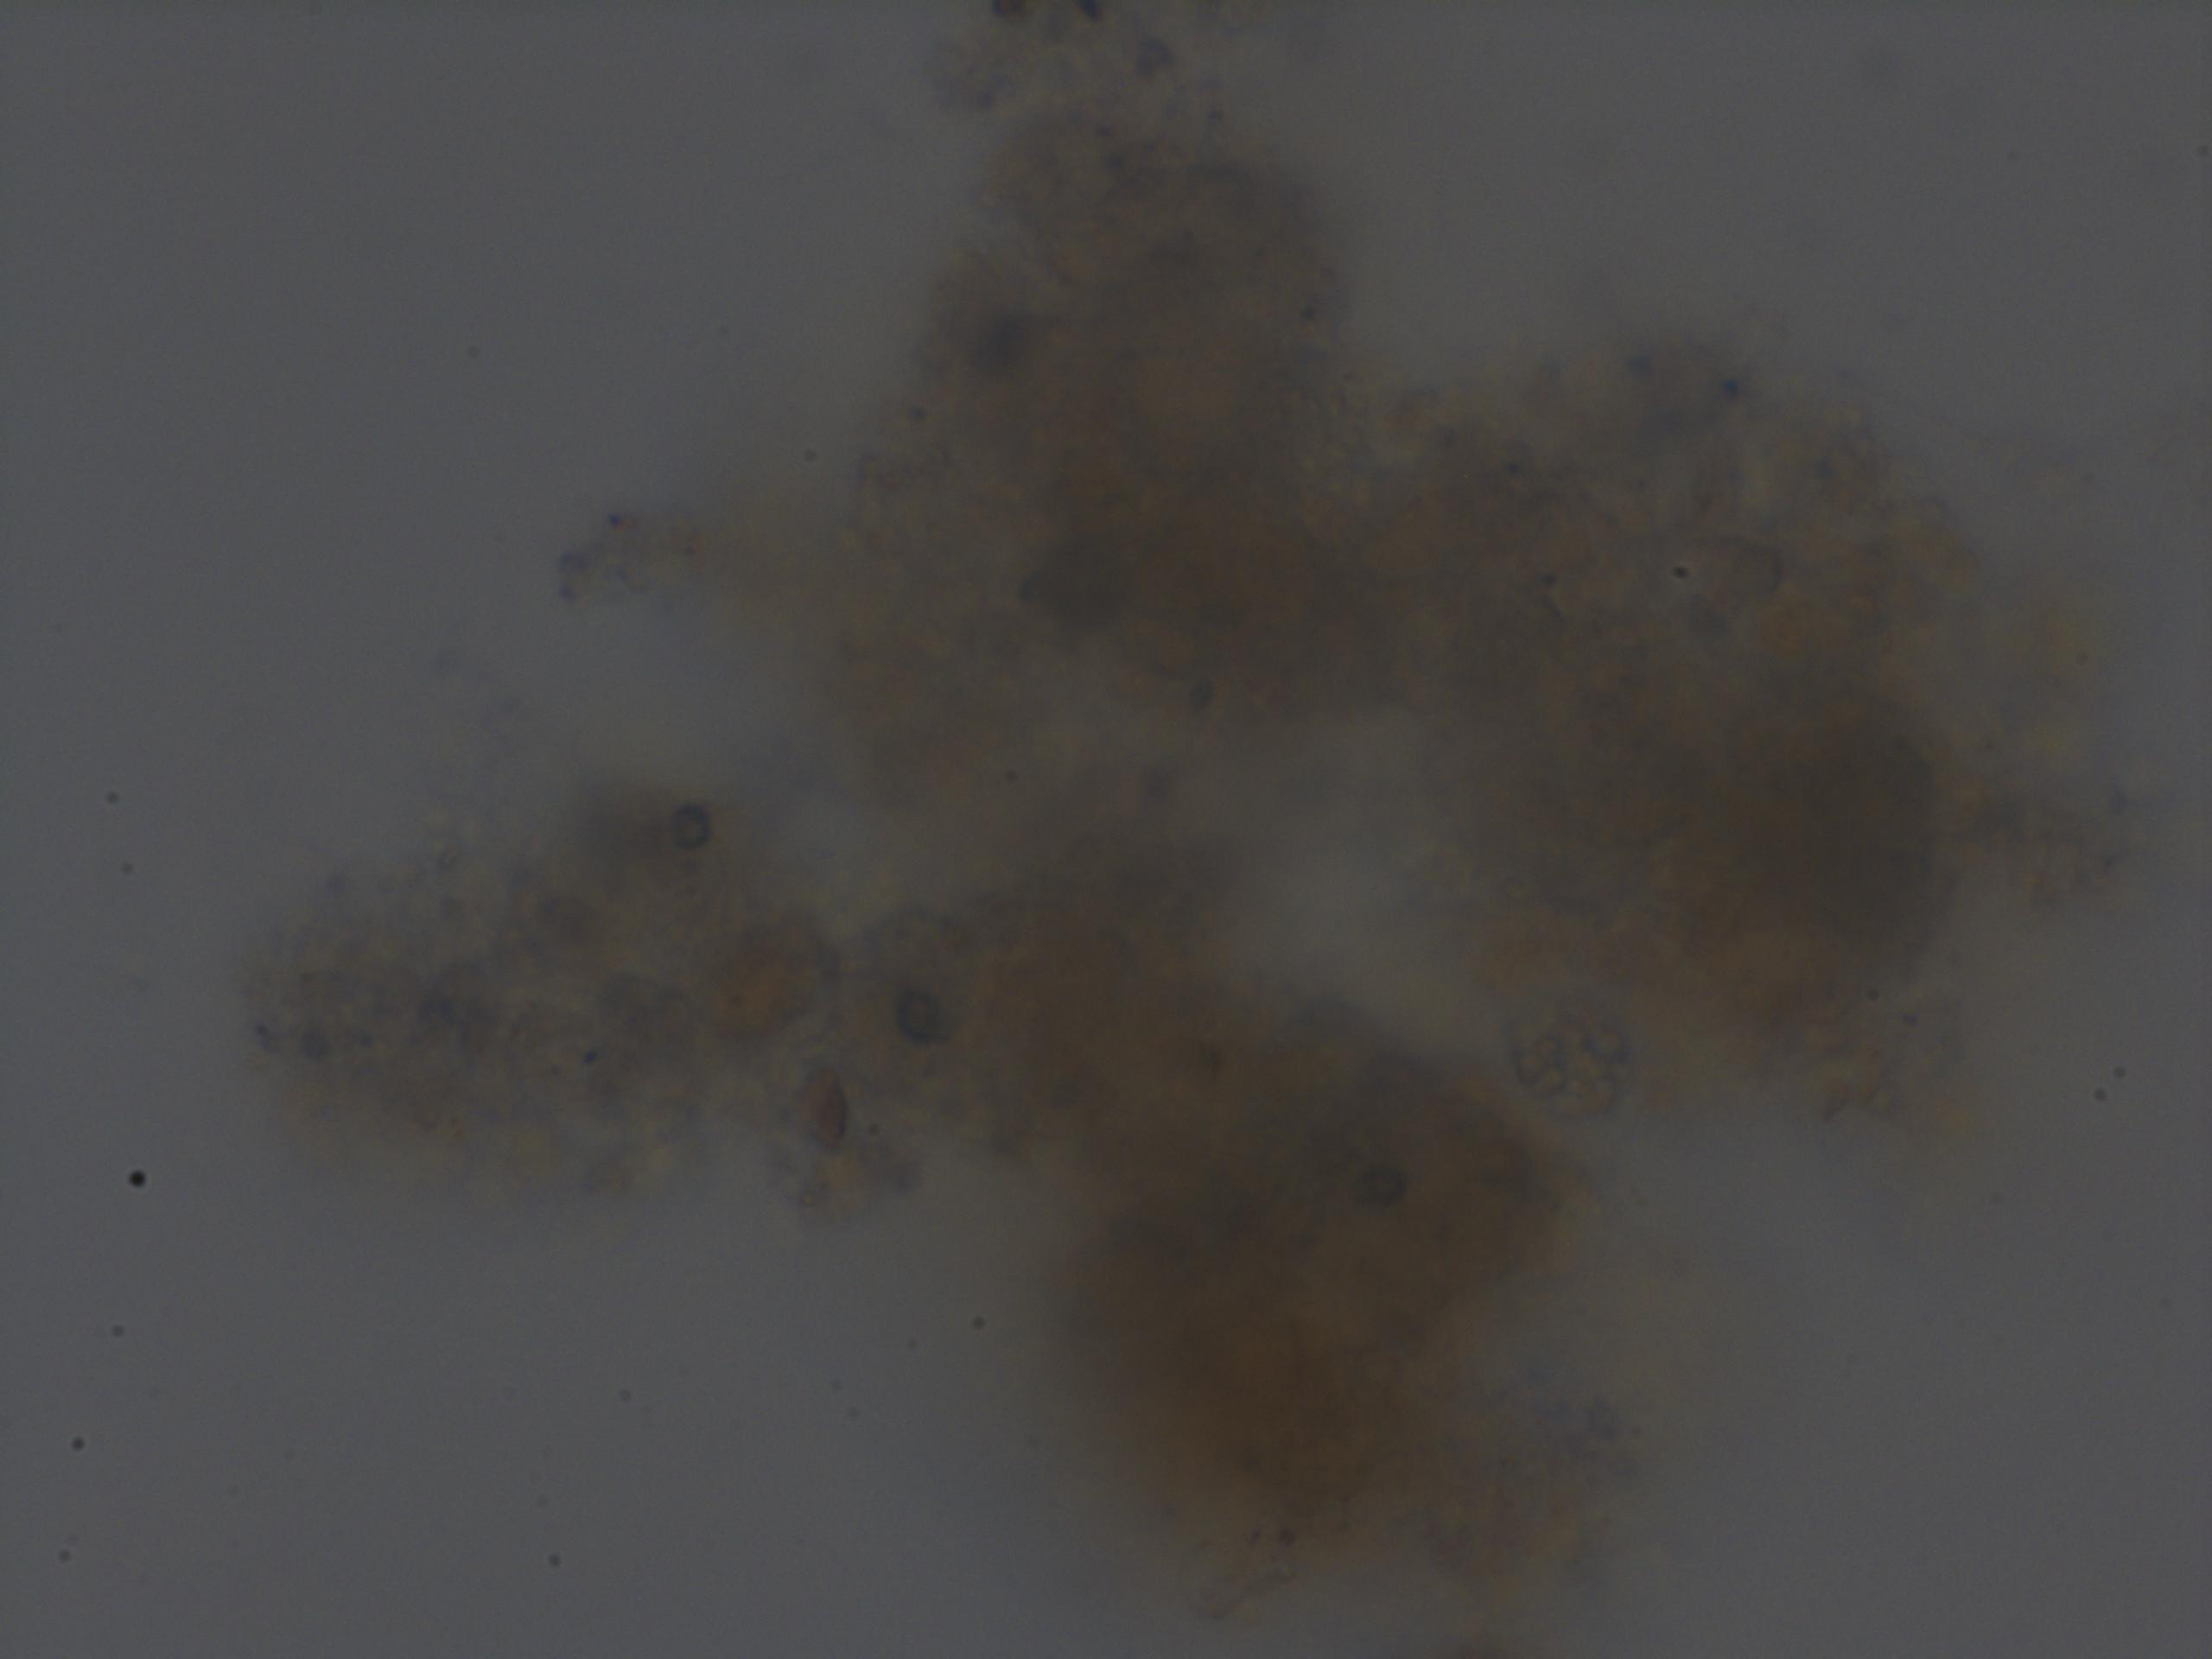open_floc: (235, 7, 2029, 1659)
